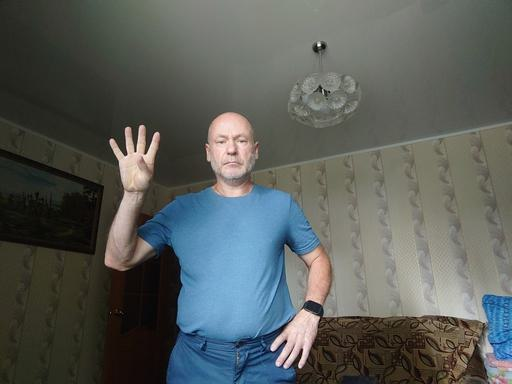four: (107, 122, 163, 195)
